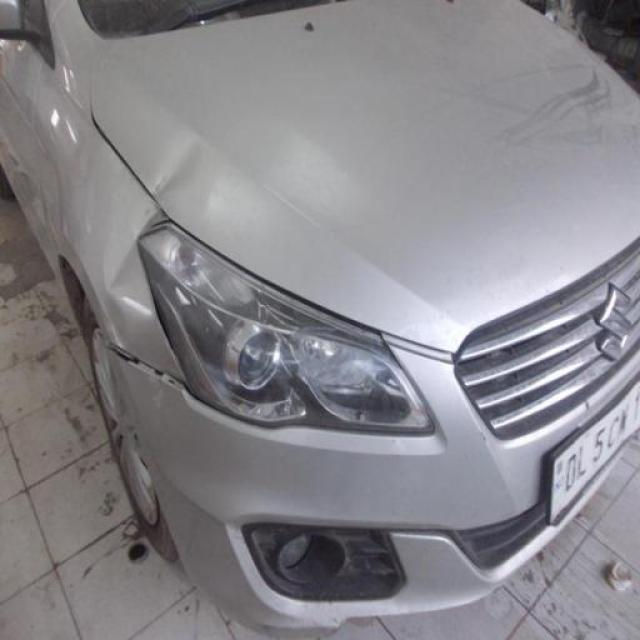dent: (104, 137, 215, 291)
misalignment: (97, 330, 191, 392)
